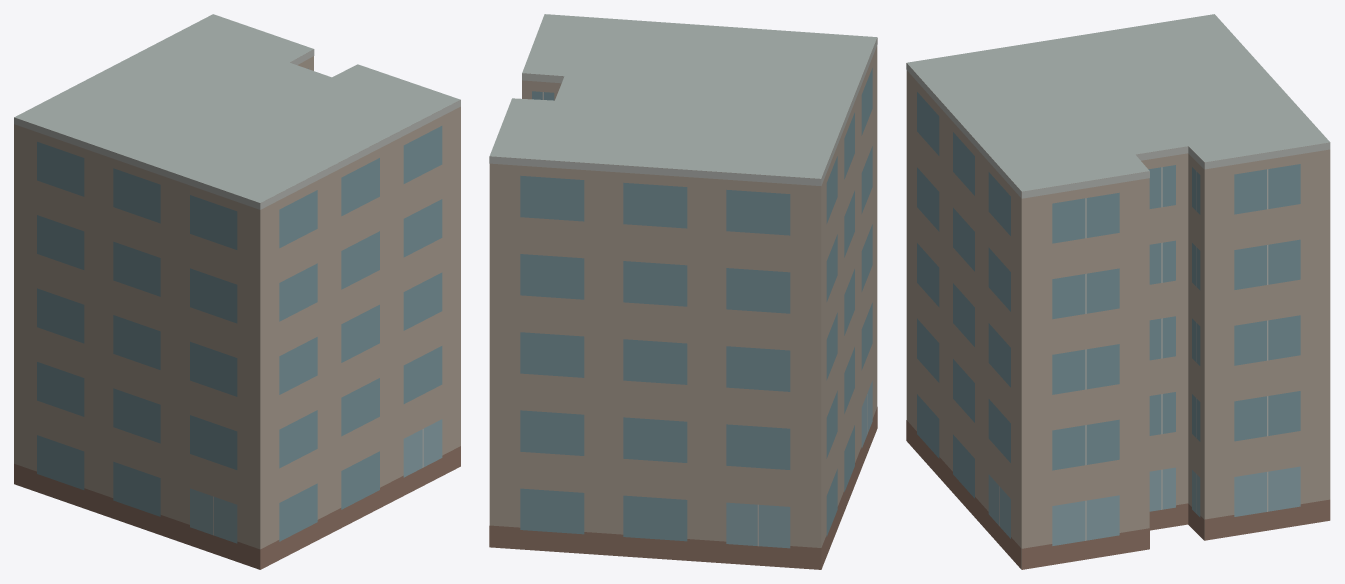
The model's file is survey-upis-32527995.glb.
The picture shows the model from 3 angles, left to right: view 1: azimuth 30°, elevation 25°; view 2: azimuth 150°, elevation 25°; view 3: azimuth 270°, elevation 25°; orthographic projection. The views are drawn at different scales.
Parts seen in each view (by area): view 1: survey-upis-32527995.tmp; view 2: survey-upis-32527995.tmp; view 3: survey-upis-32527995.tmp.
Part boxes in pixels (x1,y1,x2,y2): survey-upis-32527995.tmp: (14,14,460,569); survey-upis-32527995.tmp: (489,14,877,569); survey-upis-32527995.tmp: (906,14,1330,569).
Bounding box in the file's own units: 13.21 × 13.1 × 13.32.
